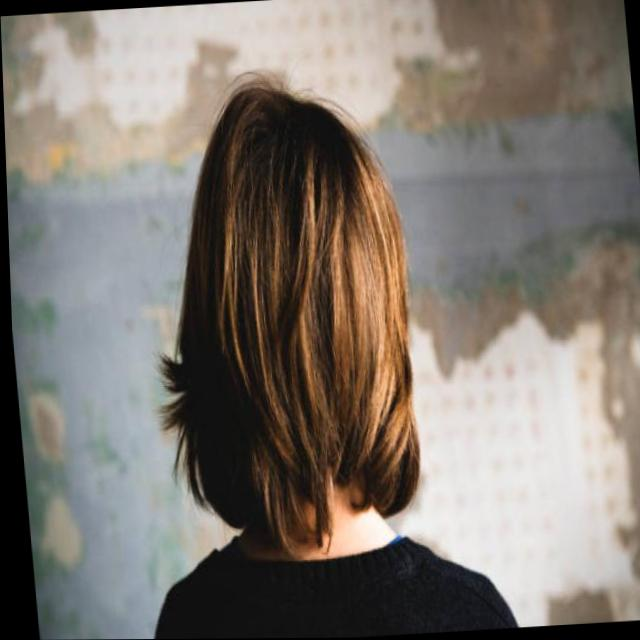no helmet: (141, 85, 441, 544)
